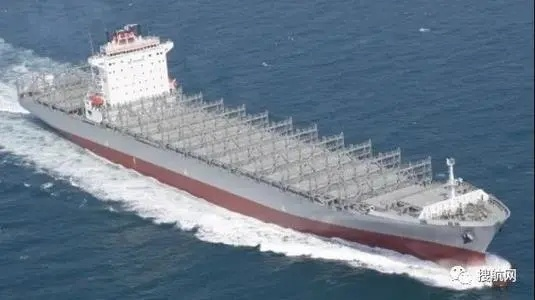Cargoship: (14, 16, 513, 265)
